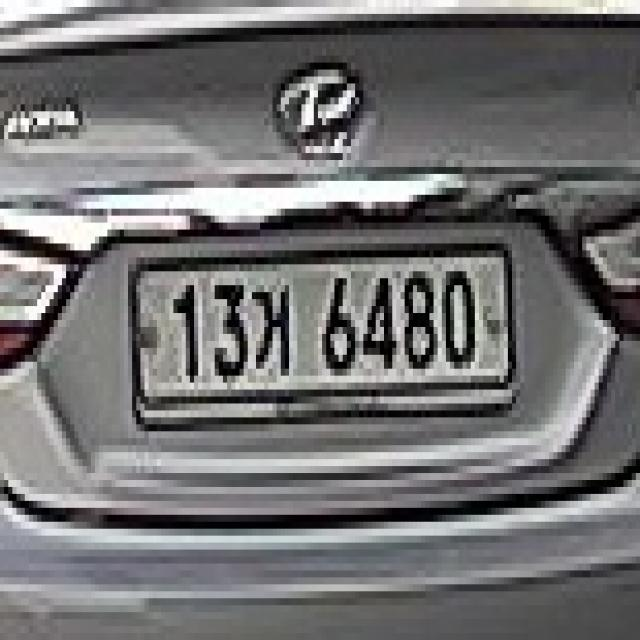0: (438, 258, 483, 382)
1: (165, 278, 207, 397)
3: (206, 271, 252, 390)
4: (359, 271, 401, 383)
6: (314, 271, 363, 390)
8: (396, 264, 438, 390)
geo: (248, 271, 297, 390)
license_plate: (128, 243, 516, 424)
